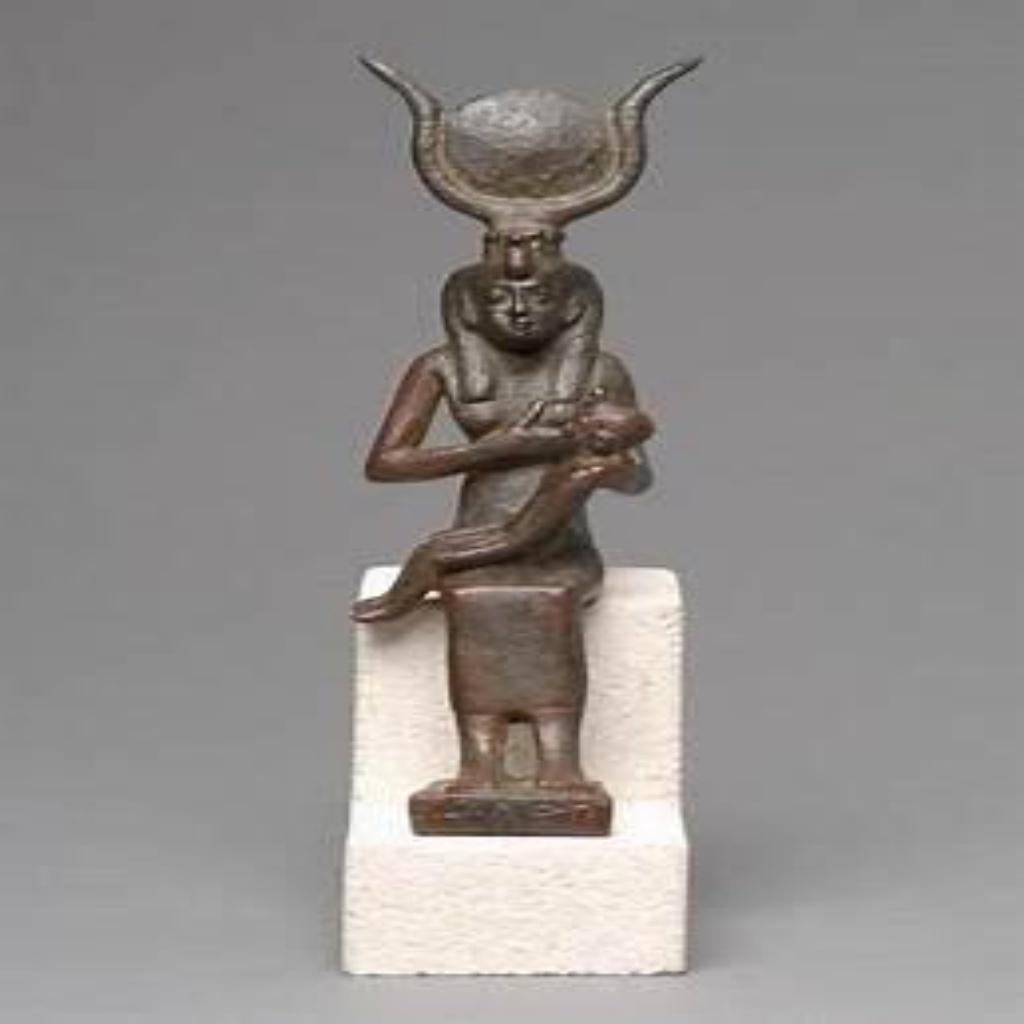Isis with her child: (338, 48, 710, 842)
